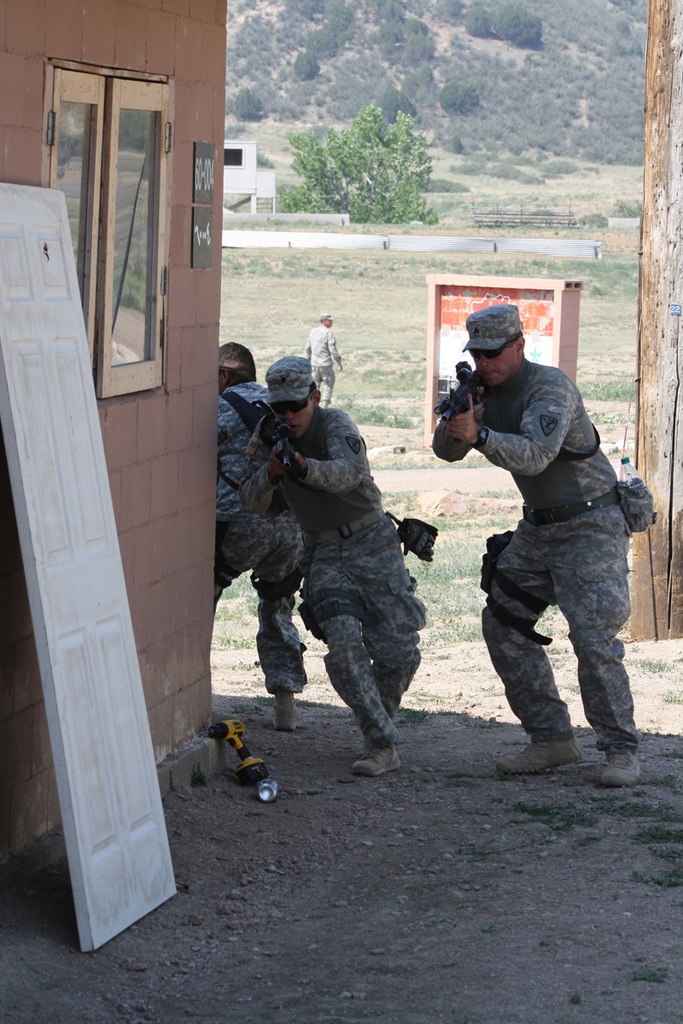Person: (430, 301, 660, 784), (239, 354, 439, 779), (198, 343, 305, 730), (297, 313, 346, 406)
